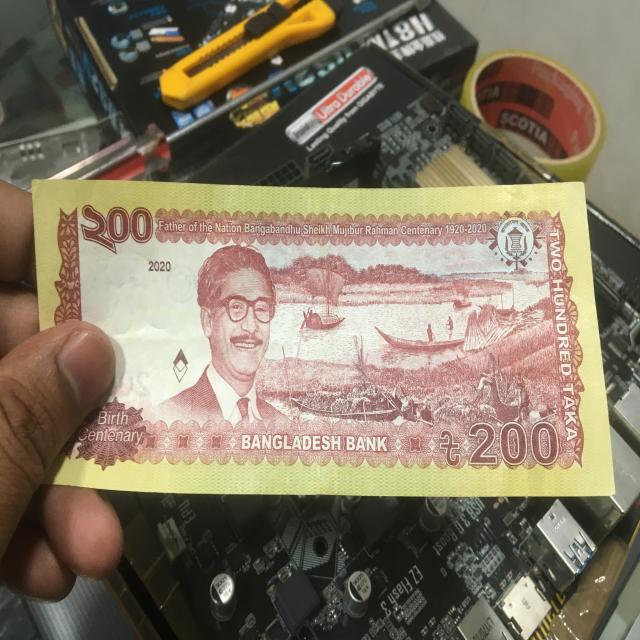Taka: (34, 168, 606, 485)
